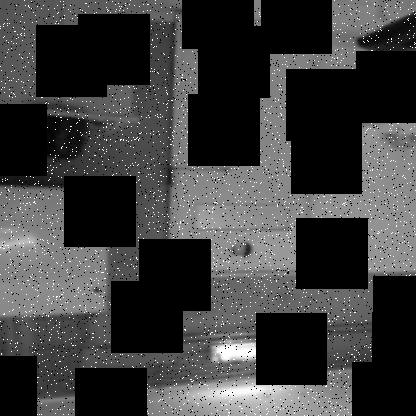Porte: (161, 6, 322, 280)
